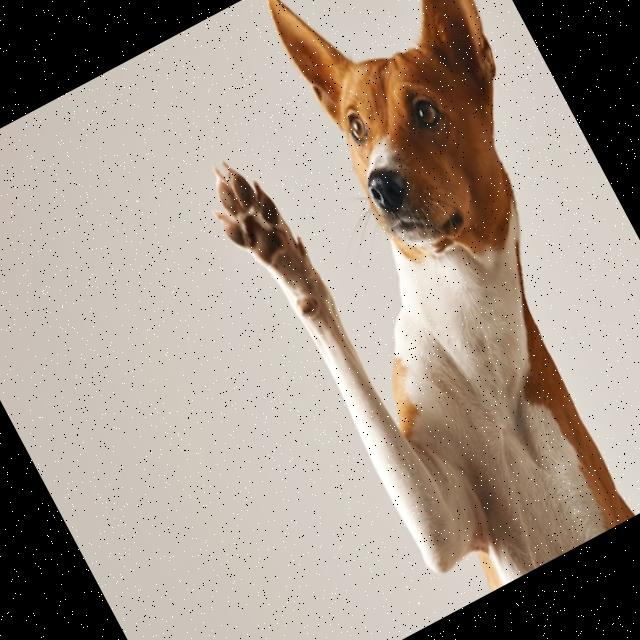Dog: (133, 0, 640, 623)
